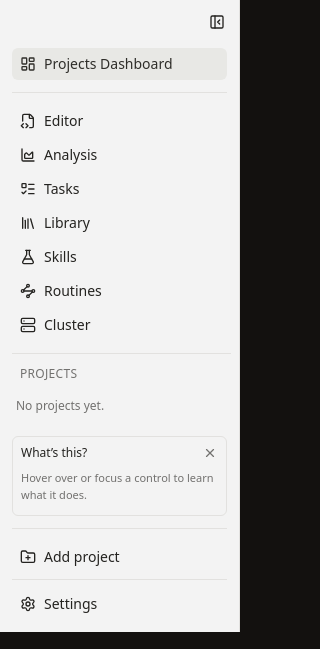
Scenario: Sidebar › persists hiding feature help and leaves a compact restore control
The image size is (320, 649).
Expected: the element with test id "sidebar-feature-help" is shown, [12, 436, 227, 516]
Click the button named "Hide feature help".
click(210, 452)  # box [198, 440, 222, 464]
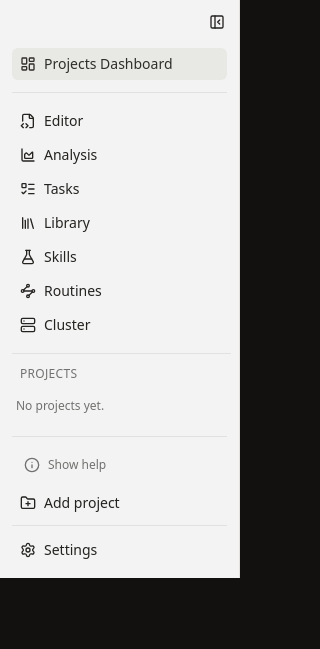
Now the element with test id "sidebar-feature-help" is gone
Click the button with aria-label "Show feature help".
click(120, 464)  # box [12, 448, 227, 480]
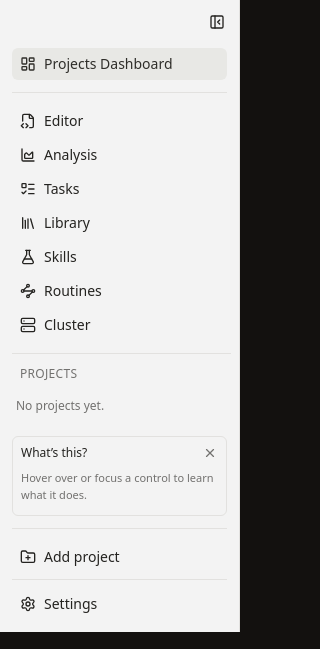
Now the element with test id "sidebar-feature-help" is shown, box [12, 436, 227, 516]
